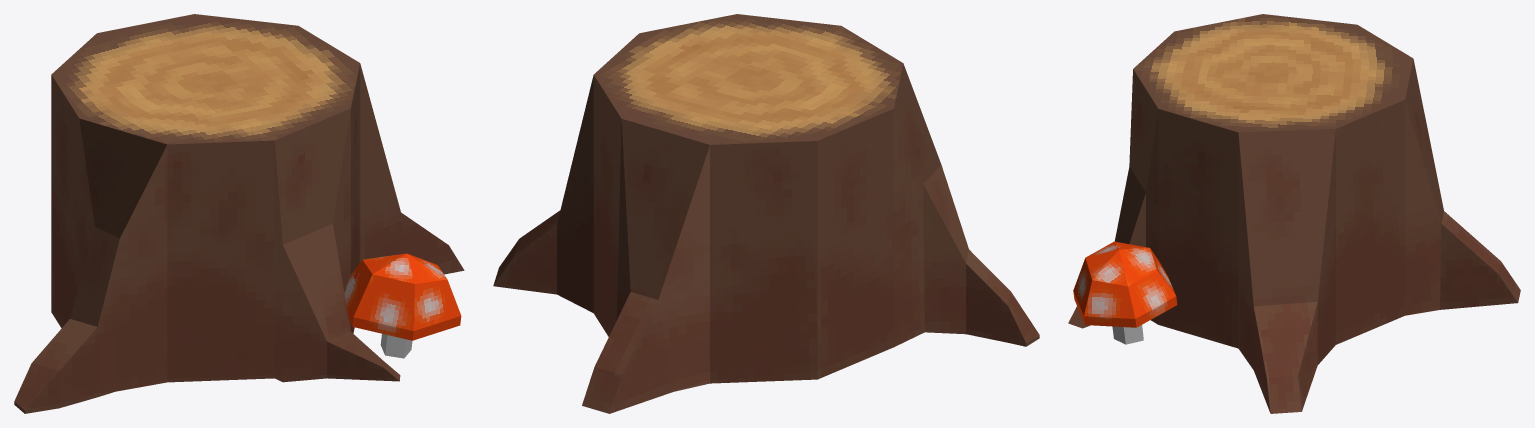
File: tree-stump.glb
3 renders of one model, left to right at view 1: azimuth 30°, elevation 25°; view 2: azimuth 150°, elevation 25°; view 3: azimuth 270°, elevation 25°, orthographic. The views are drawn at different scales.
Parts seen in each view (by area): view 1: circle_0, cylinder_1; view 2: circle_0; view 3: circle_0, cylinder_1.
Part boxes in pixels (x1,y1,x2,y2): circle_0: (14,14,464,413); cylinder_1: (344,253,461,358); circle_0: (493,14,1039,413); circle_0: (1068,14,1520,413); cylinder_1: (1073,241,1177,344).
Size of the model in its own units: 1.91 by 0.946 by 1.69.
Materials: 2 (2 with a texture image).
